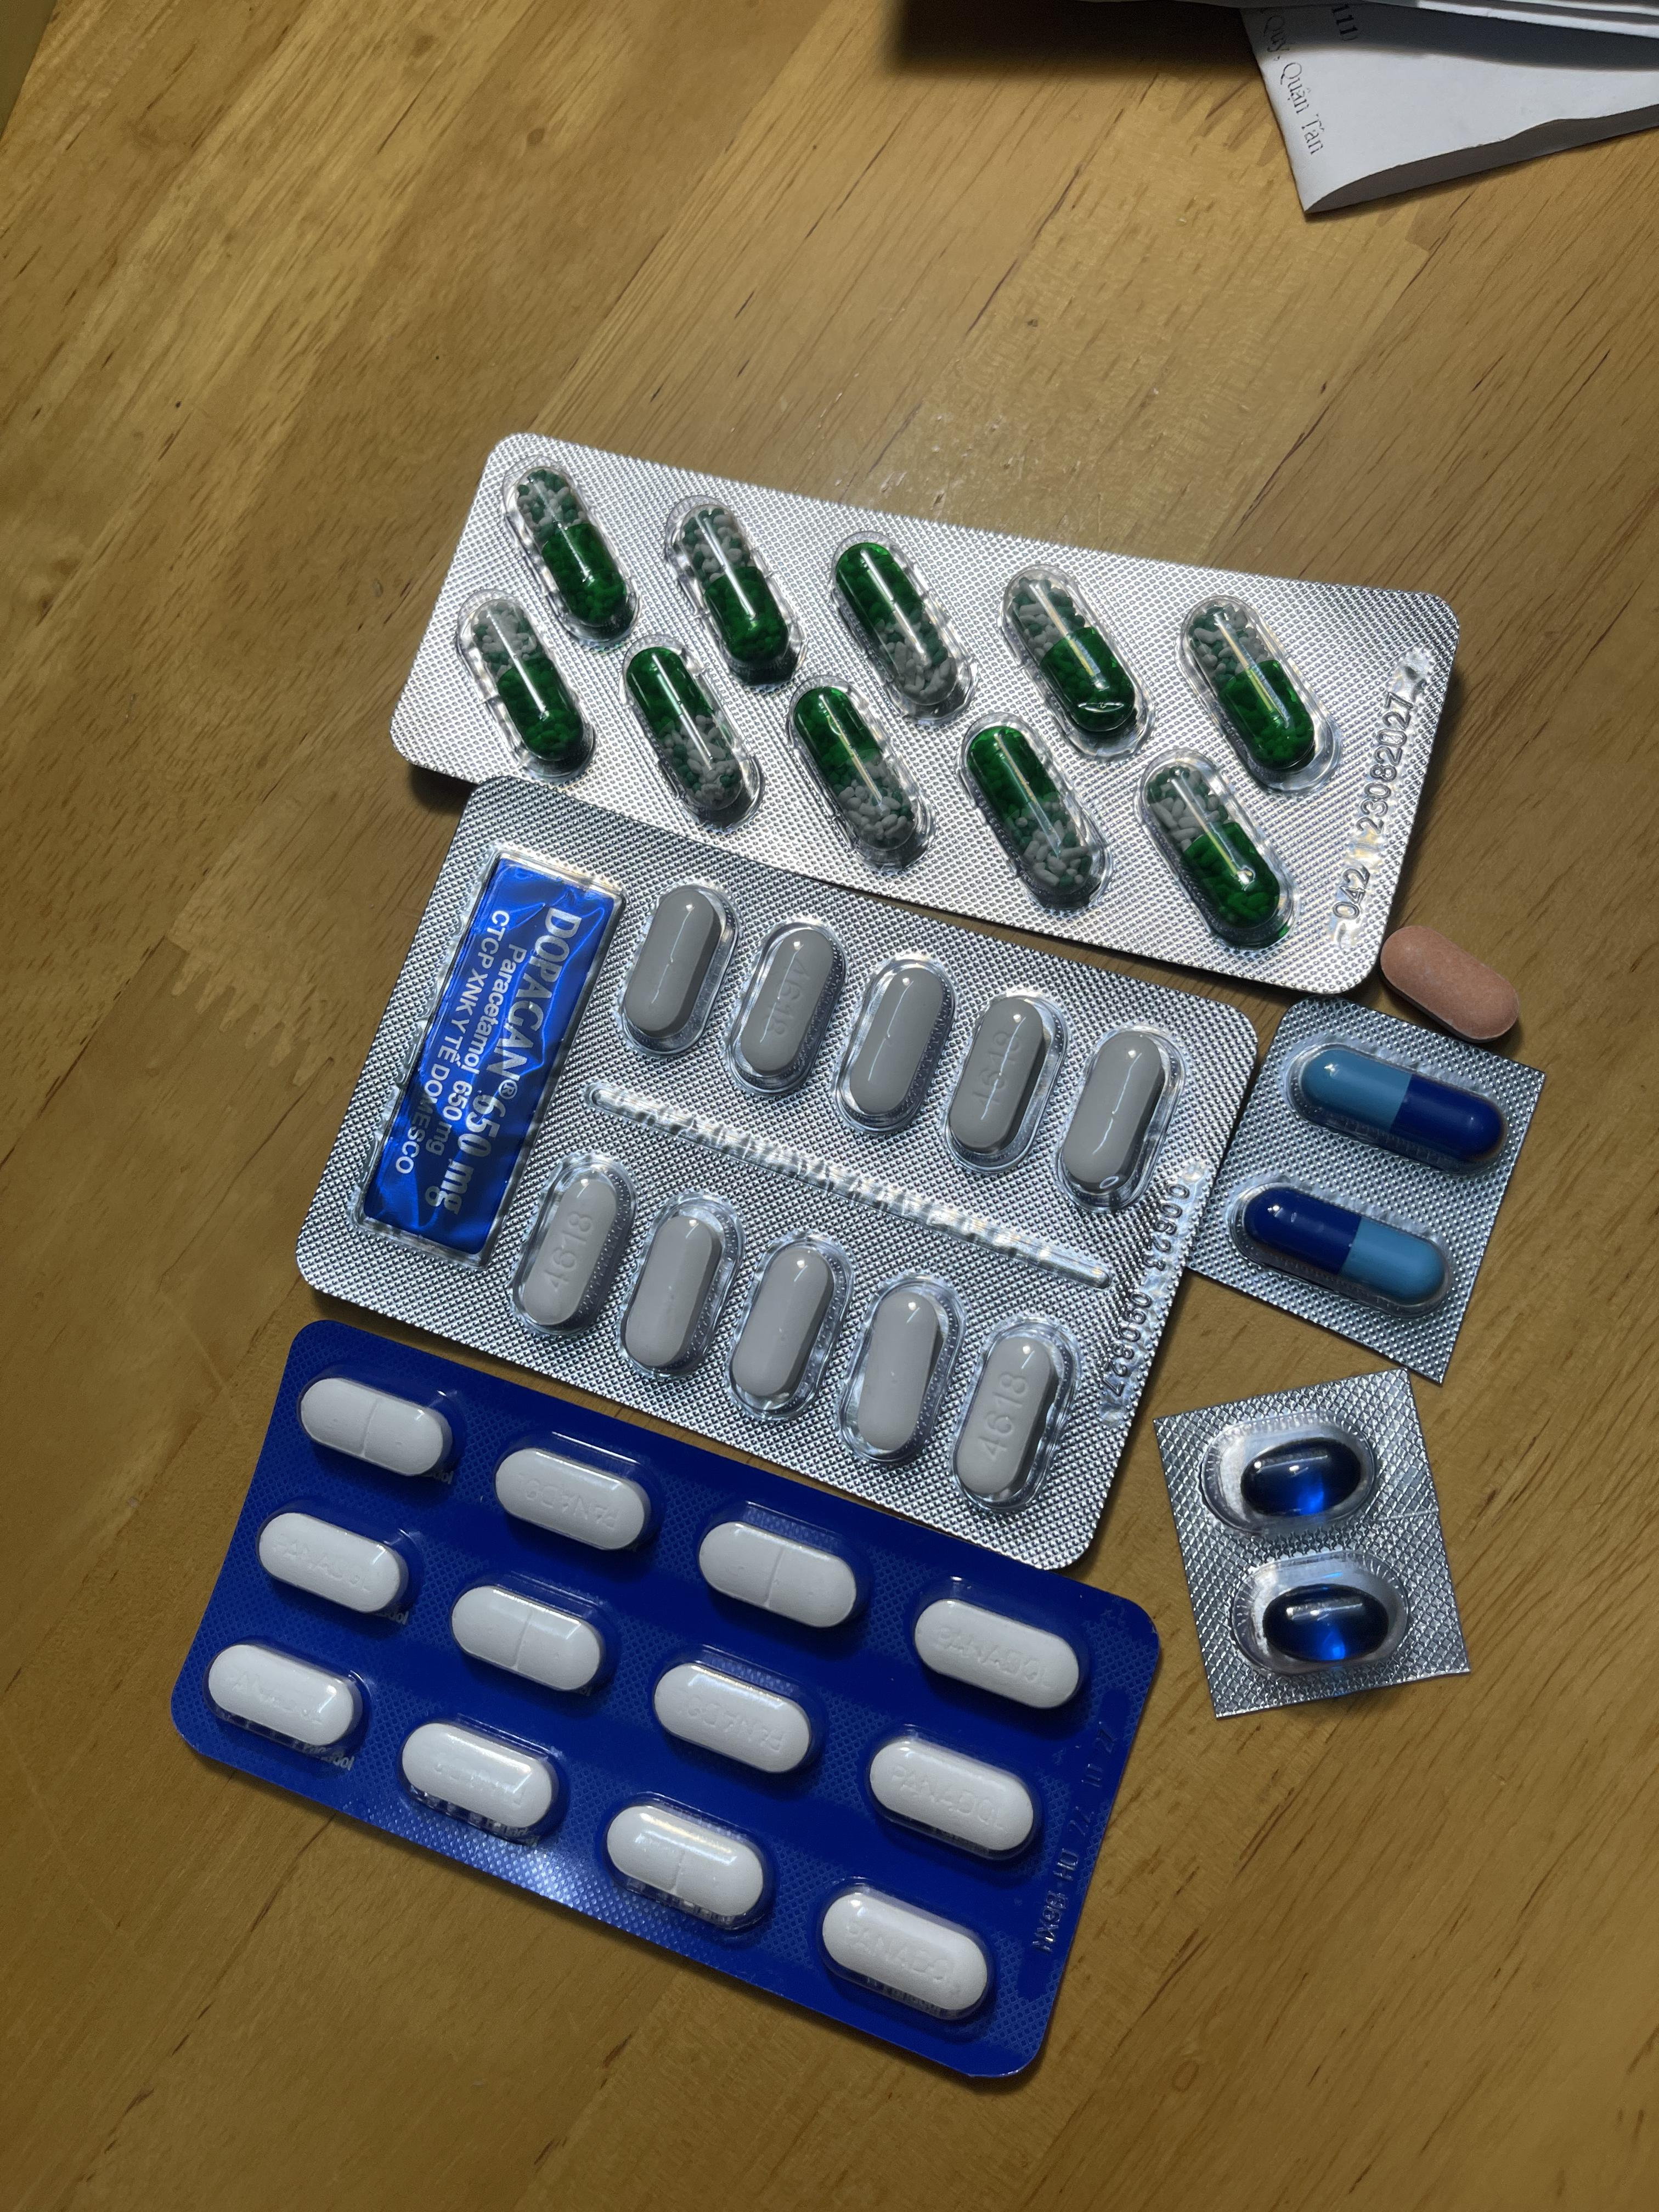Lincomyxin_500mg: (1237, 1437, 1361, 1519), (1260, 1583, 1387, 1662)
Loratadine_10mg: (1380, 927, 1521, 1042)
Paracetamol_350mg: (816, 1885, 992, 2022), (866, 1733, 1039, 1862), (910, 1594, 1086, 1716), (603, 1801, 769, 1930), (652, 1656, 817, 1778), (401, 1719, 561, 1839), (697, 1514, 864, 1629), (204, 1639, 364, 1757), (256, 1507, 413, 1620), (450, 1583, 608, 1695), (296, 1372, 458, 1480), (493, 1444, 653, 1550)
Paracetamol_500mg: (948, 1313, 1079, 1507), (505, 1150, 636, 1332), (613, 1193, 741, 1379), (721, 1230, 847, 1413), (836, 1271, 958, 1460), (941, 986, 1061, 1167), (1053, 1022, 1171, 1205), (835, 953, 953, 1130), (613, 881, 732, 1054), (727, 923, 840, 1089)
Paracetamol_650mg: (1185, 596, 1338, 792), (828, 535, 976, 728), (666, 495, 809, 690), (498, 460, 640, 651), (788, 681, 929, 869), (965, 719, 1107, 906), (455, 594, 596, 779), (1143, 754, 1284, 937), (624, 641, 758, 826), (1014, 573, 1143, 737)
pill: (1244, 1183, 1445, 1305), (1304, 1045, 1499, 1160)
